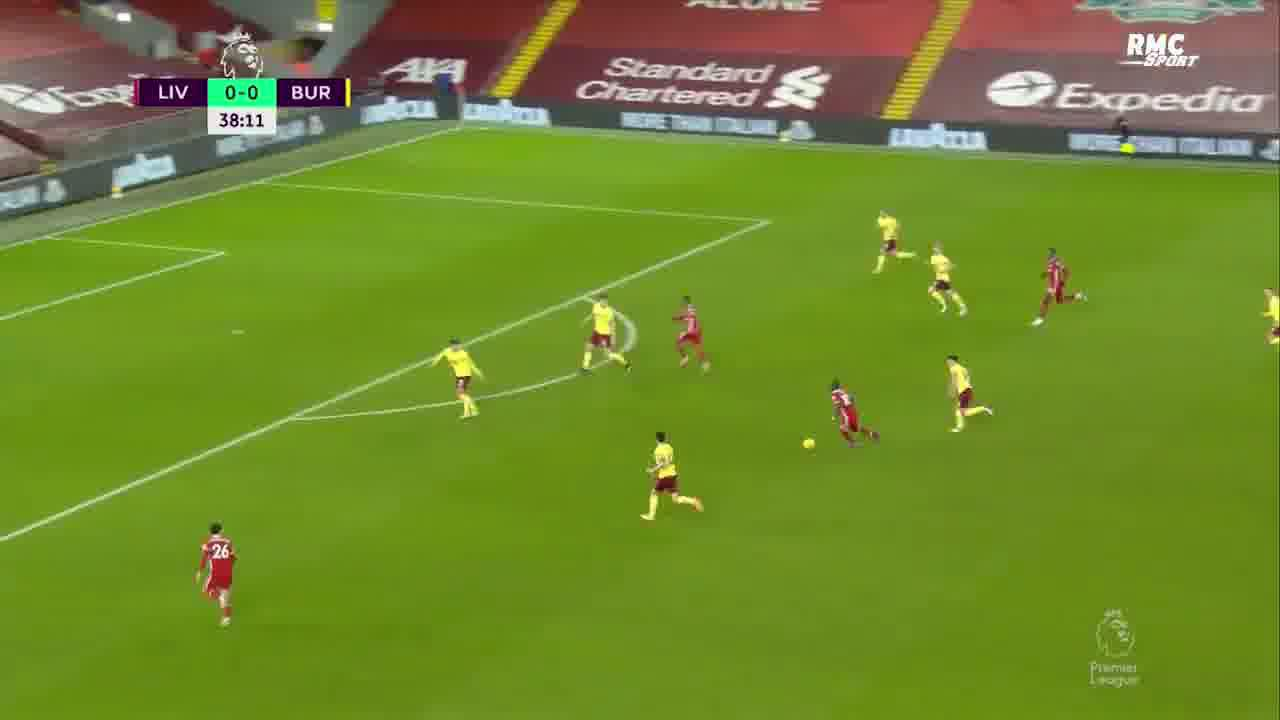futbol: (798, 433, 819, 453)
player: (635, 424, 714, 528), (188, 505, 246, 640), (1023, 245, 1093, 332), (431, 334, 492, 427), (938, 349, 998, 442), (574, 286, 633, 378), (666, 288, 718, 381), (823, 375, 886, 451), (867, 201, 919, 282), (923, 242, 974, 318), (1250, 278, 1279, 358)
